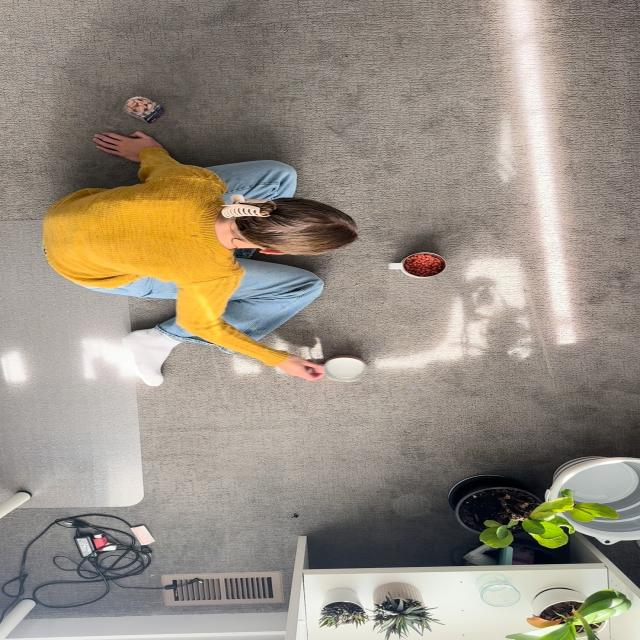IBC: (389, 252, 446, 278), (325, 355, 366, 382)
